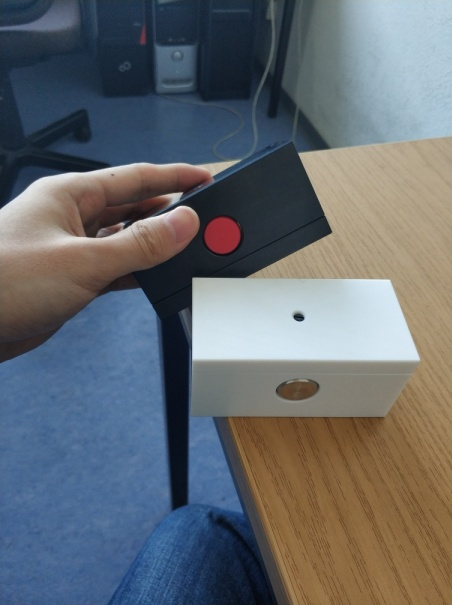black+black+red: (121, 137, 336, 322)
white+white+silver: (190, 276, 421, 420)
